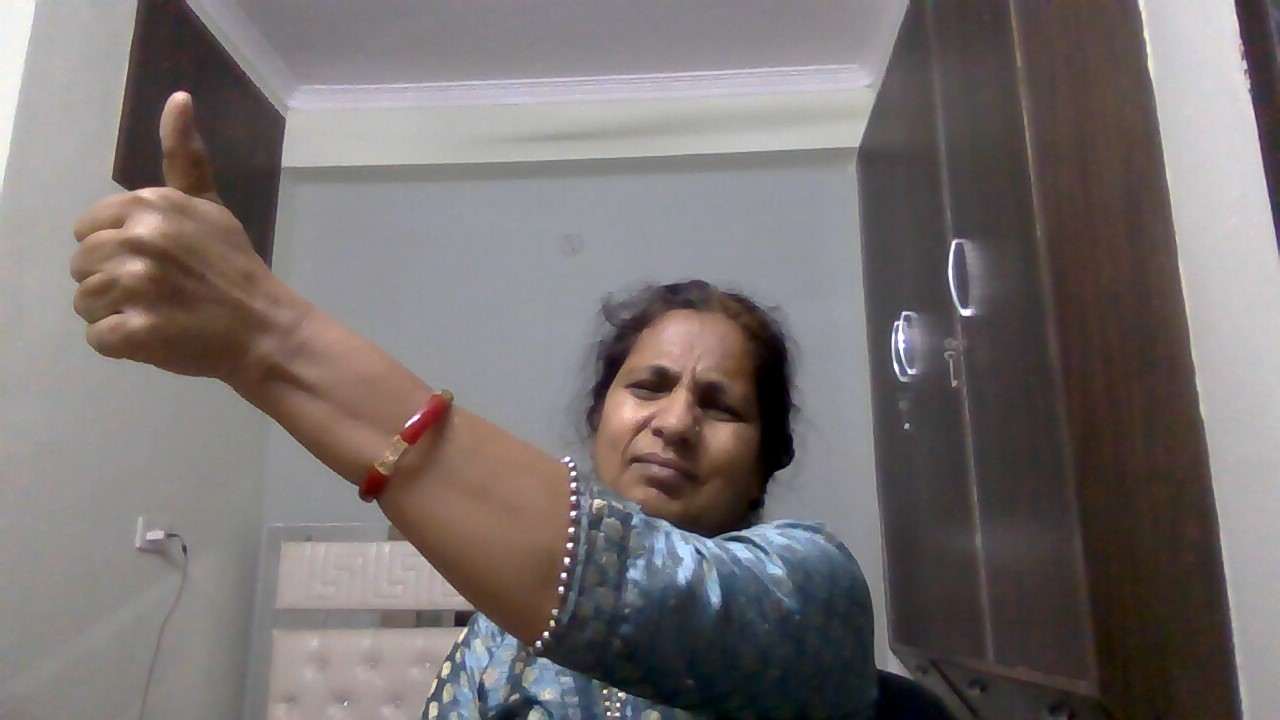Save: (63, 77, 287, 405)
